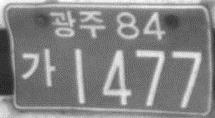1: (72, 46, 87, 106)
4: (101, 48, 132, 105), (141, 10, 165, 40)
7: (133, 48, 166, 107), (170, 50, 202, 110)
8: (115, 10, 139, 39)
가: (21, 47, 56, 86)
광주_O: (48, 9, 106, 40)
